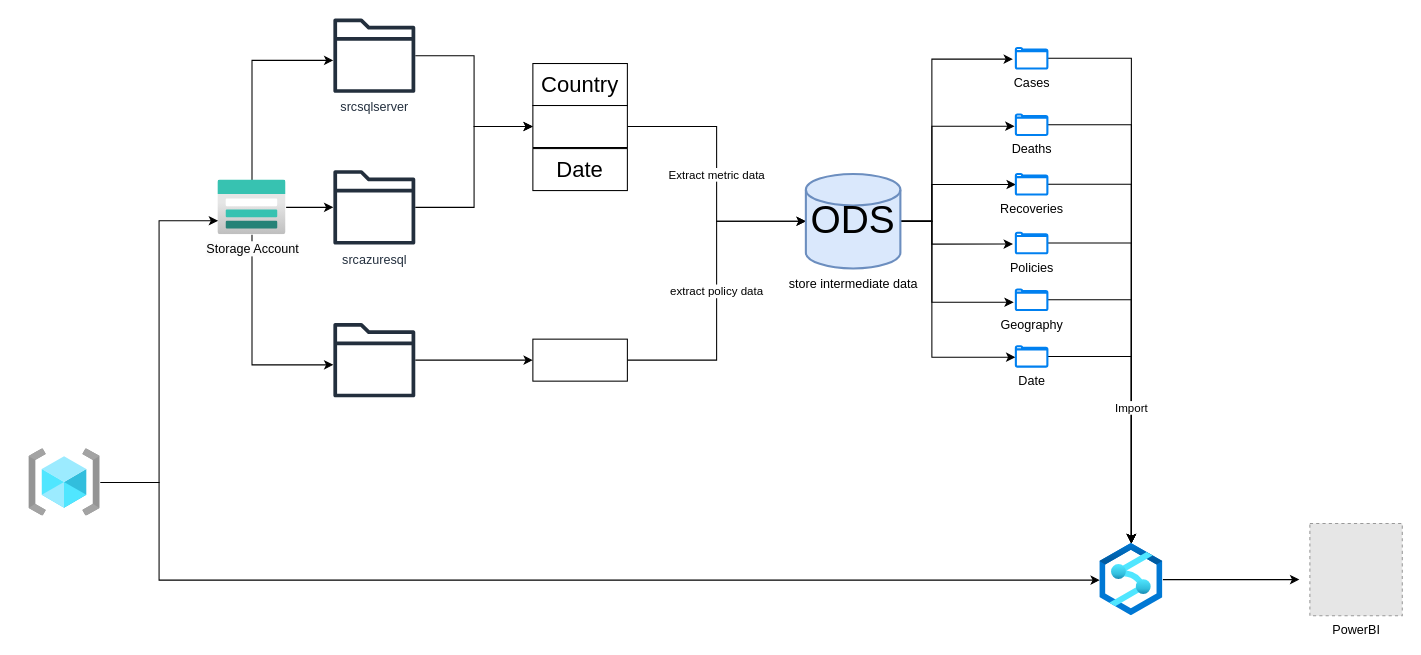
The diagram is 1421 pixels wide and 655 high, and some of its shapes have lost their labels. Grey dashed boxes stand in for pictures. Here are the shapes that lost their labels. From the top down, the centre of each, then its label:
the point at 579,126: Covid19
the point at 374,359: srccosmos
the point at 579,359: Policy
the point at 64,482: Resource Group
the point at 1130,579: Azure Synapse Analytics
